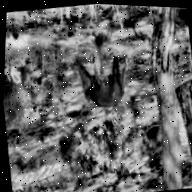boar: (67, 38, 140, 122)
